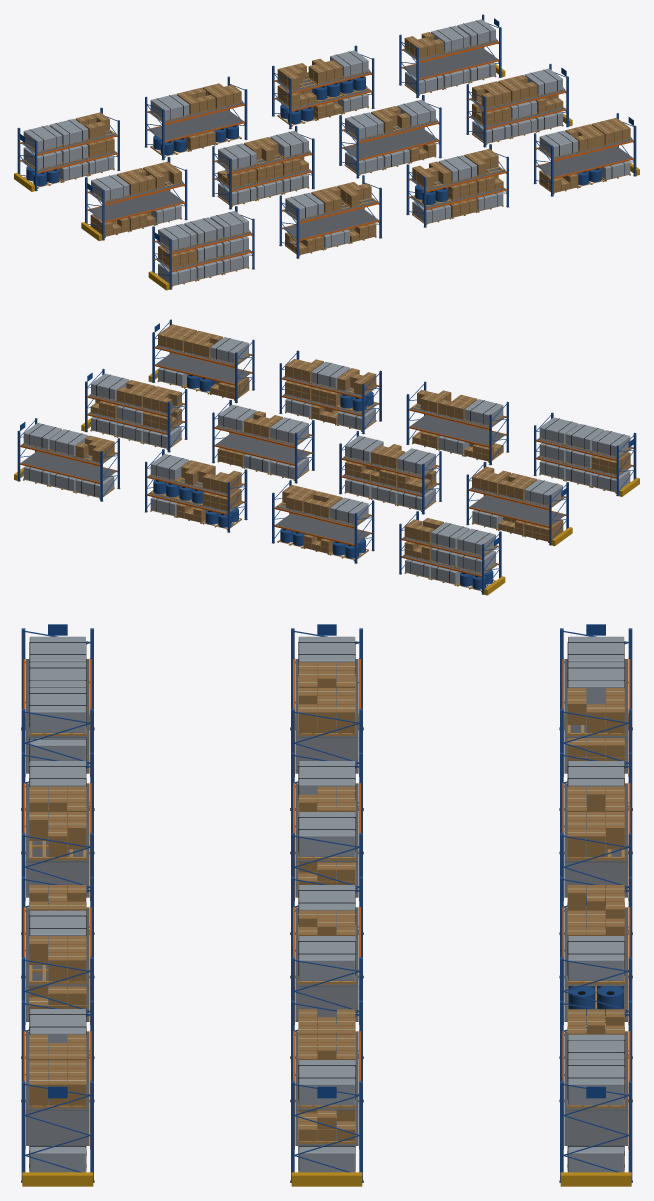
The model's file is dp-racks.glb.
3 views of the same model, one above another, from view 1: azimuth 30°, elevation 25°; view 2: azimuth 150°, elevation 25°; view 3: azimuth 270°, elevation 25° (orthographic). The views are drawn at different scales.
Parts seen in each view (by area): view 1: dp-racks; view 2: dp-racks; view 3: dp-racks.
Boxes of the visible parts, <box> form: dp-racks: <box>14,14,639,290</box>; dp-racks: <box>14,319,639,595</box>; dp-racks: <box>21,624,632,1186</box>.
Bounding box in the file's own units: 44.75 × 4.5 × 25.02.
